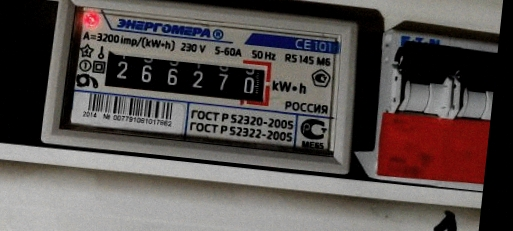0: (240, 73, 256, 95)
2: (114, 58, 129, 80), (190, 68, 205, 89)
6: (138, 61, 153, 84), (164, 65, 179, 85)
7: (216, 71, 228, 91)
screen: (91, 39, 279, 113)
